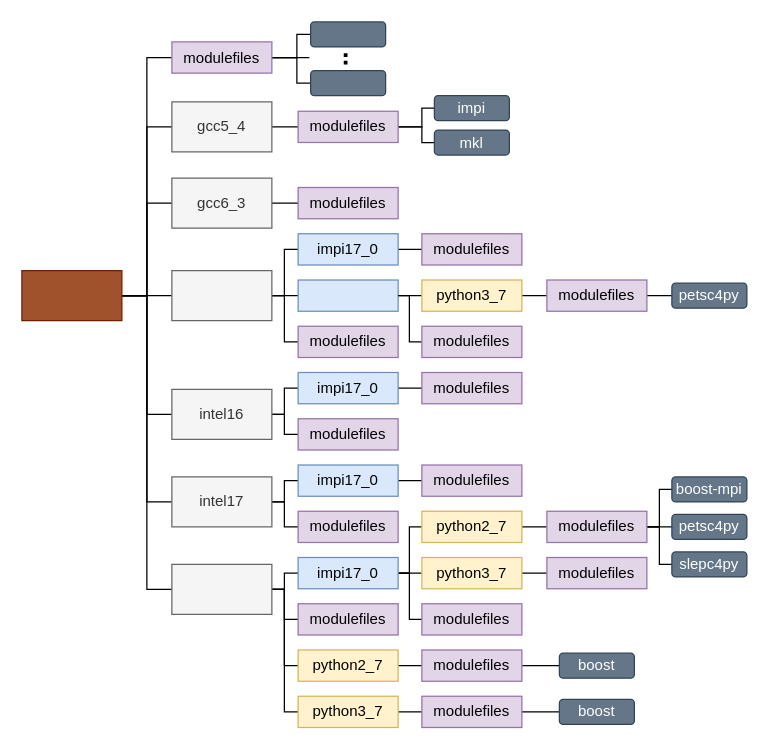
Some shapes in this 769 by 750 pixel diagram are drawn without their labels. Each missing label, with the centre of its shape:
gcc7_1: the point at 221,295
impi18_0: the point at 347,295
intel: the point at 347,34
intel18: the point at 221,588
matlab: the point at 347,82
Root: the point at 71,295
